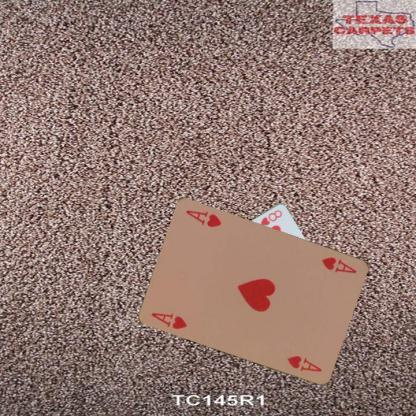8h: (258, 207, 283, 226)
Ah: (148, 310, 189, 330), (319, 254, 358, 274)
